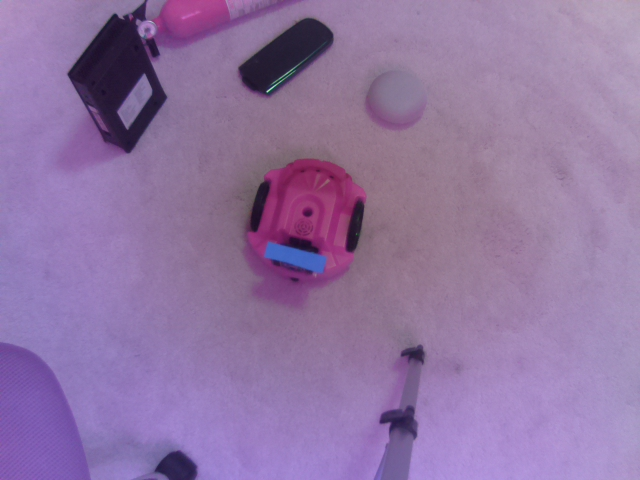board: (260, 235, 334, 284)
chassis: (243, 151, 369, 293)
